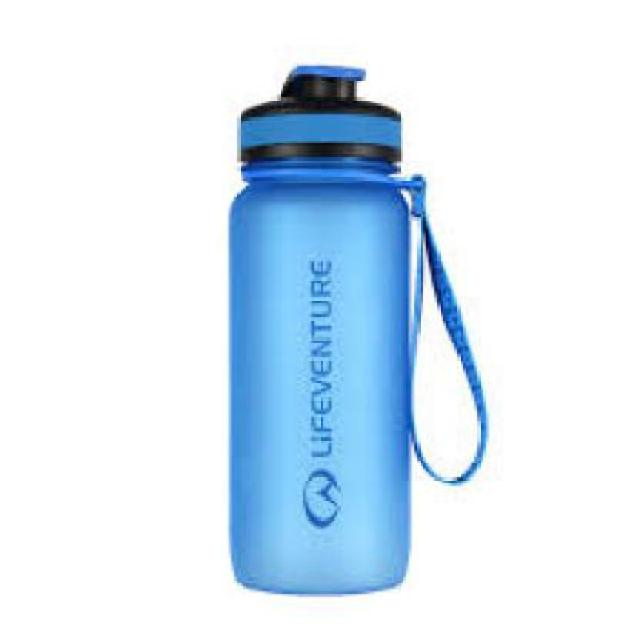Drinking: (197, 52, 457, 618)
